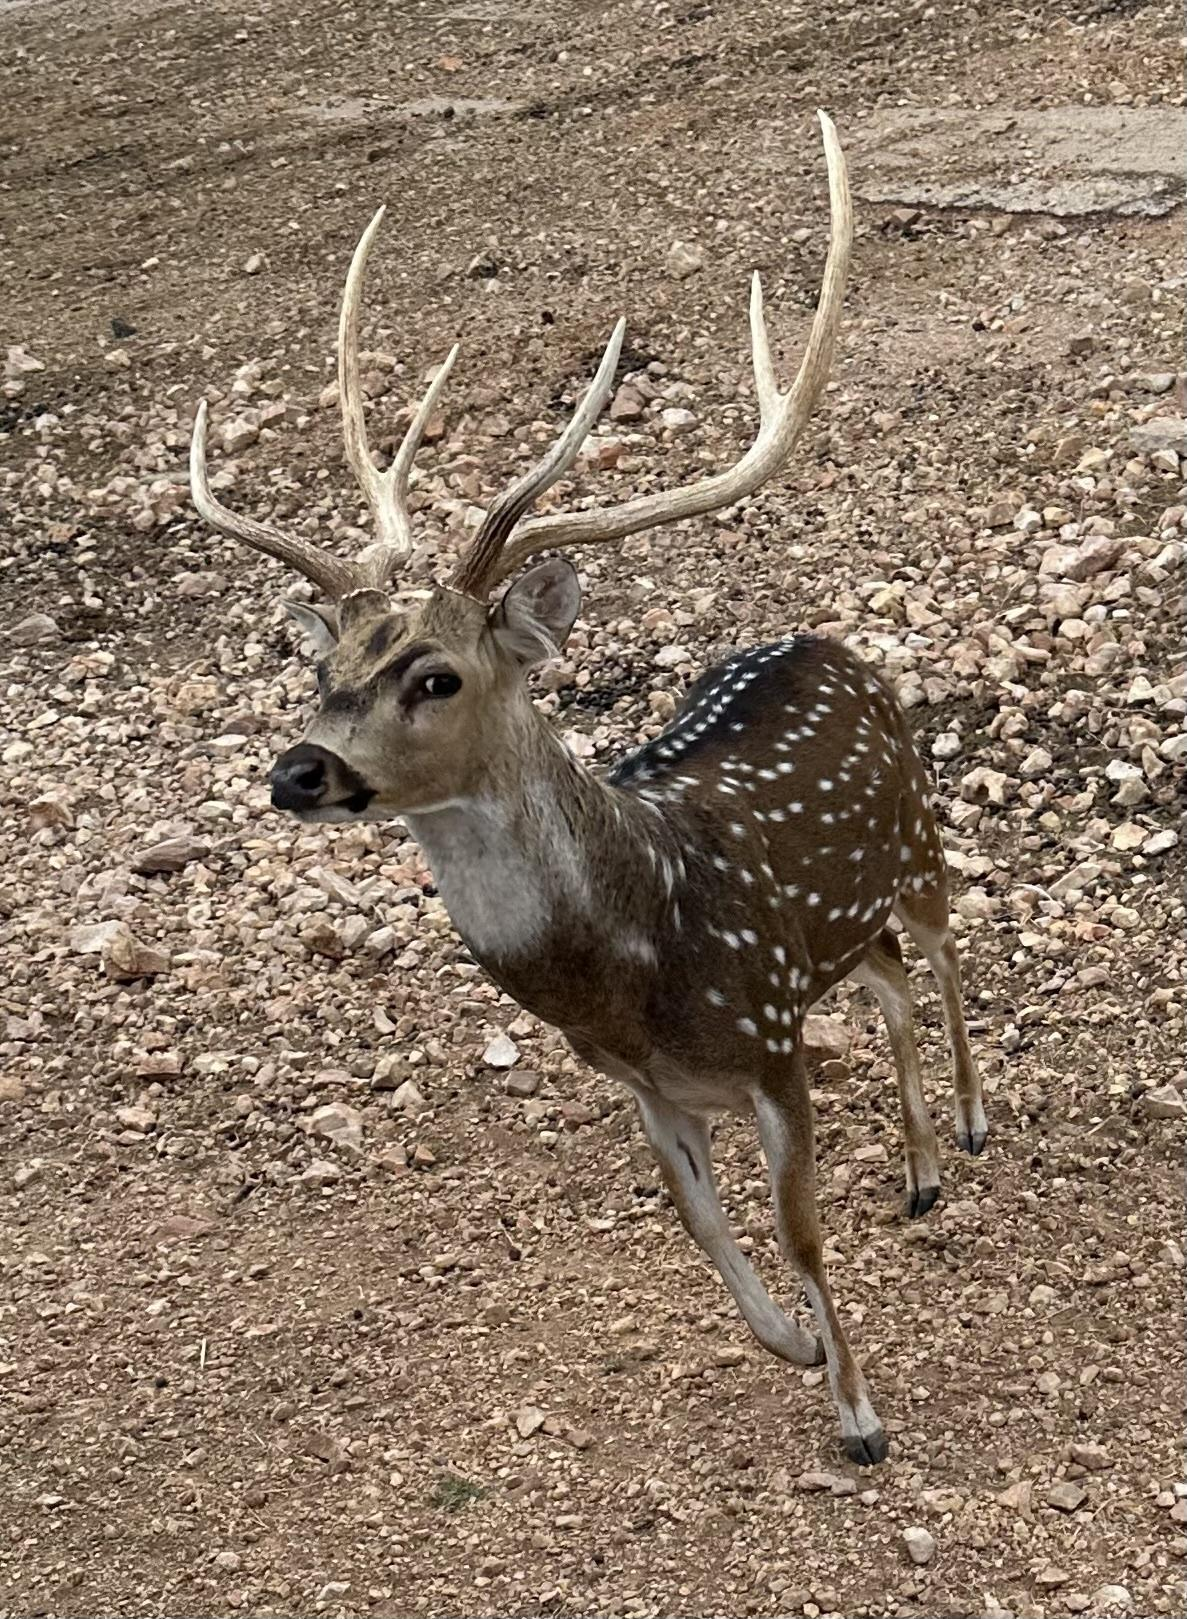Deer: (190, 112, 986, 1461)
